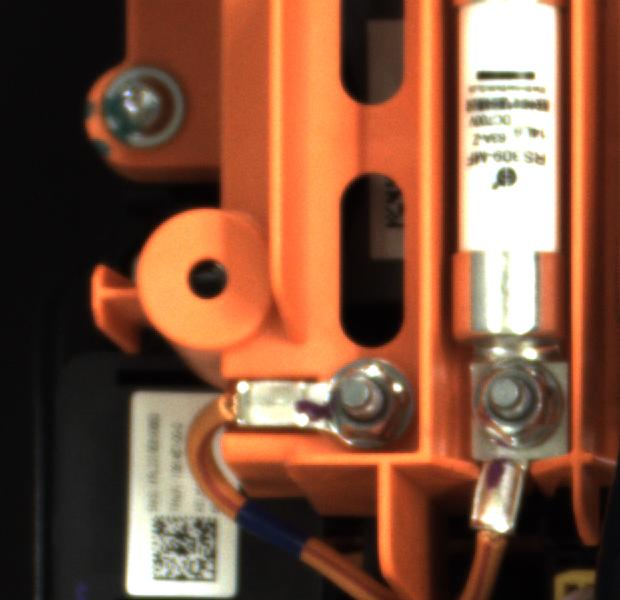screw_m: (87, 61, 195, 151)
screw_s: (469, 349, 562, 445), (321, 353, 415, 447)
